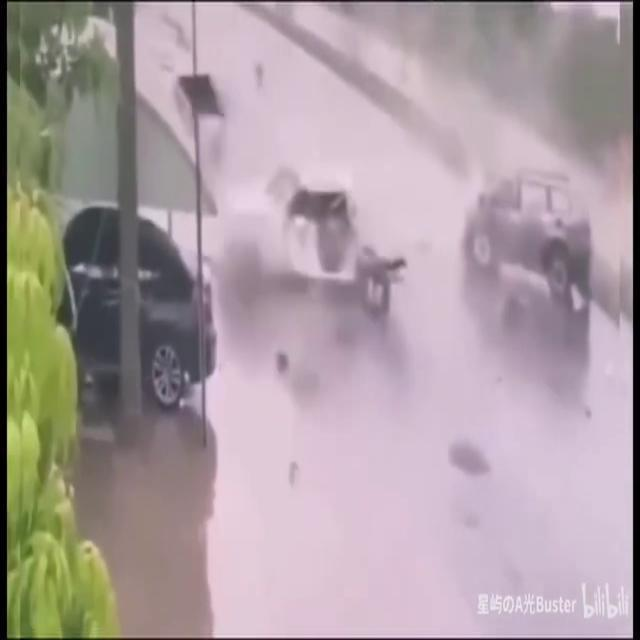accident: (223, 163, 593, 324)
